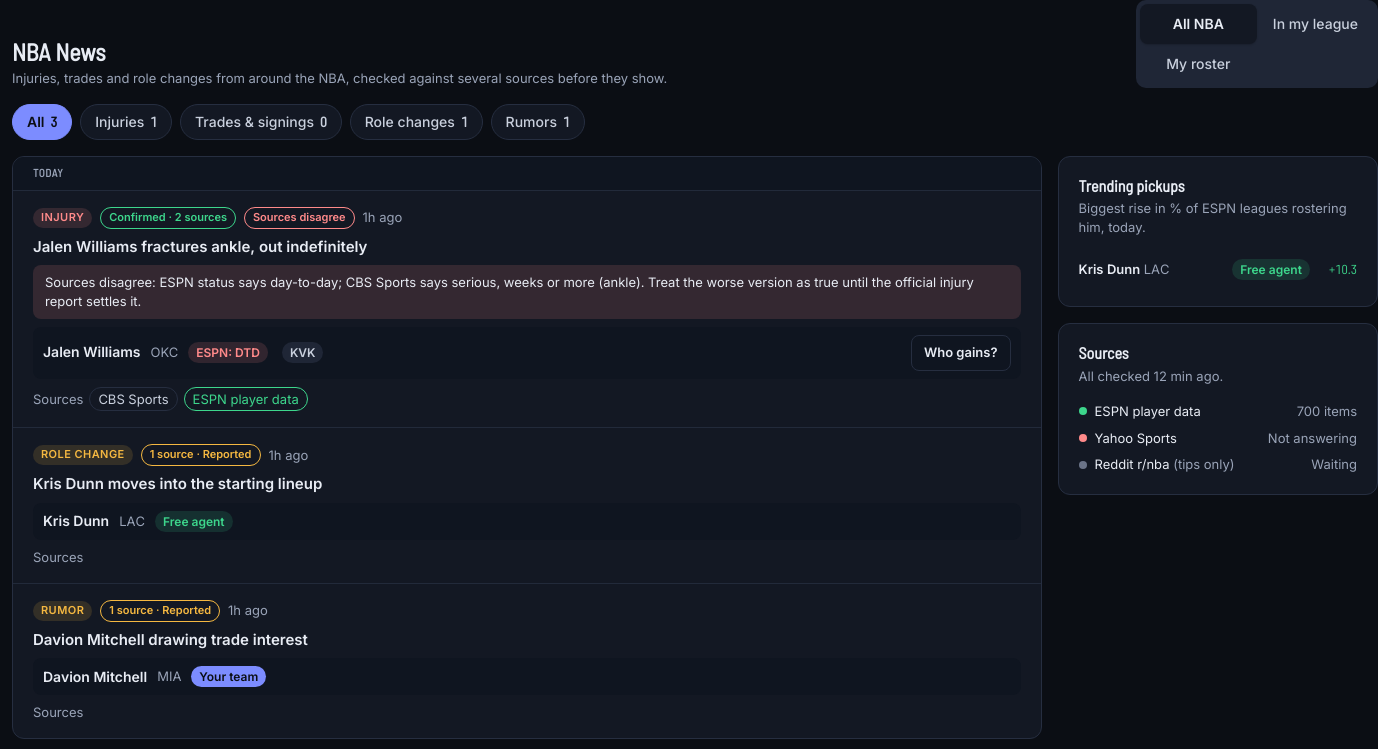
News › filters by kind and by my roster
Expected: the heading "Kris Dunn moves into the starting lineup" is shown, [33,474,322,493]
Click the button "Injuries 1". click: (126, 122)
box: [80,104,172,140]
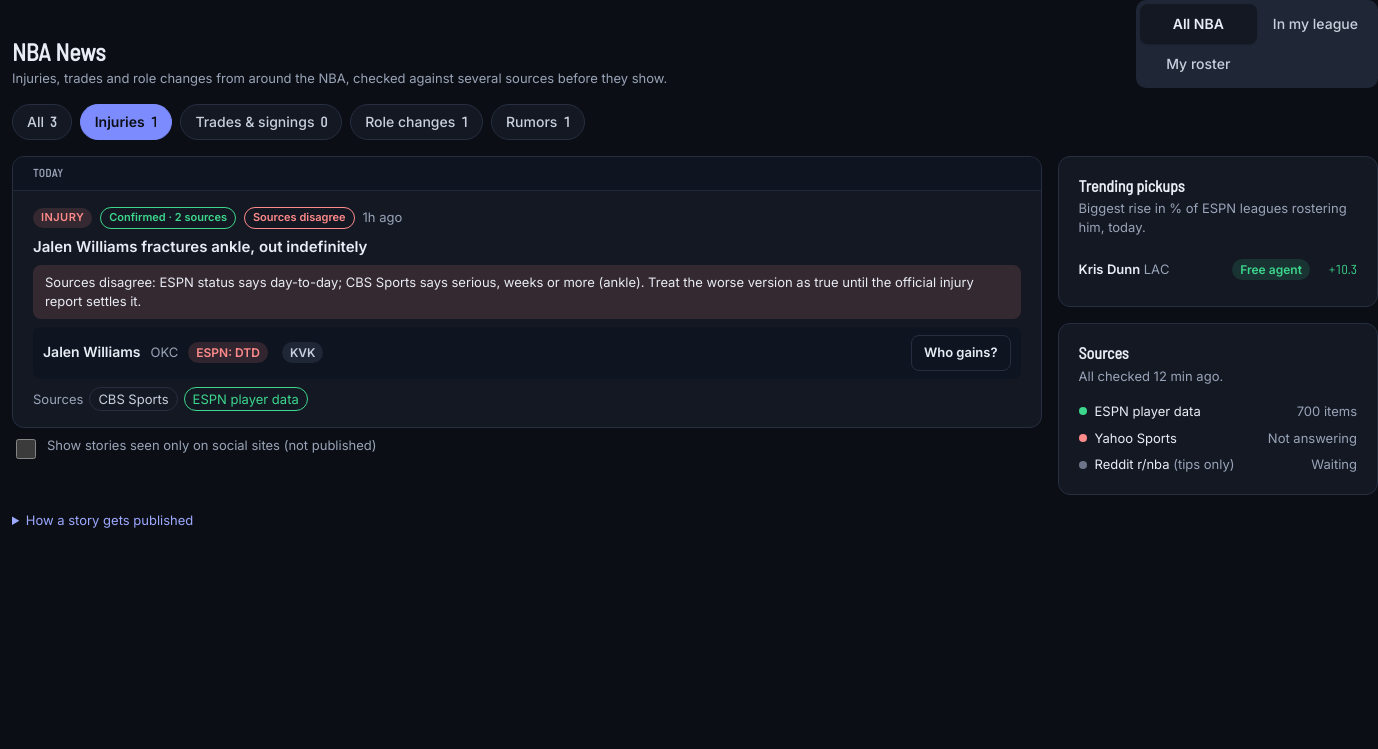
Expected: the link "Jalen Williams fractures ankle, out indefinitely" is shown, [33,237,368,256]
Now the heading "Kris Dunn moves into the starting lineup" is gone
Click the button "All 3". click: (42, 122)
box: [12,104,72,140]
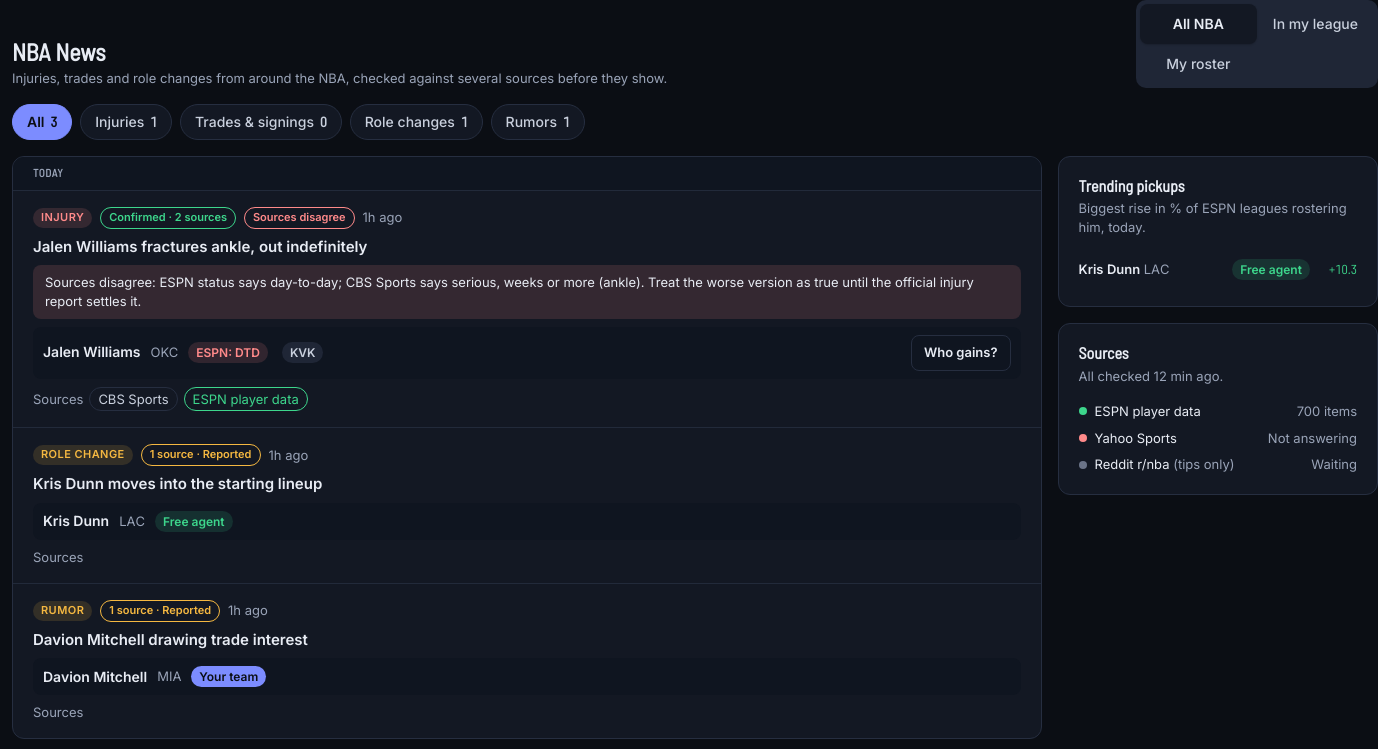
Click the button "My roster". click: (1198, 64)
box: [1140,44,1257,84]
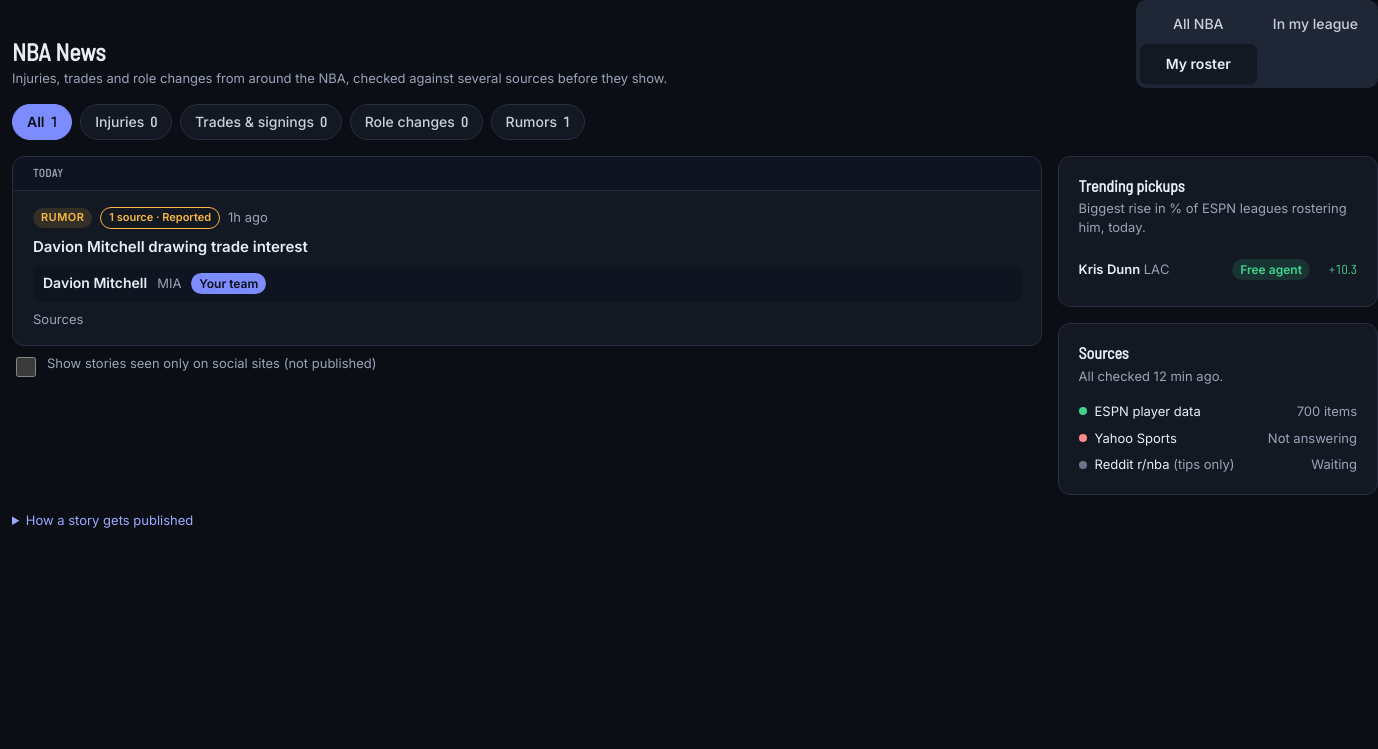
Now the heading "Davion Mitchell drawing trade interest" is shown, box [33,237,308,256]
Now the heading "Kris Dunn moves into the starting lineup" is gone
